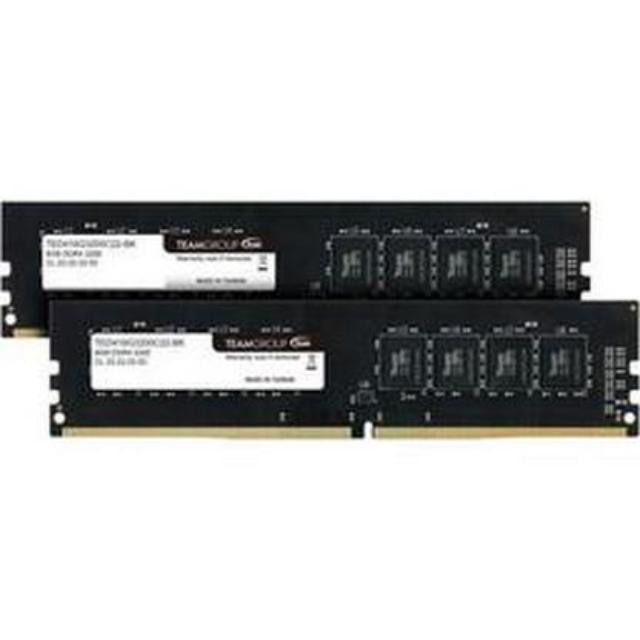RAM: (0, 190, 640, 458)
